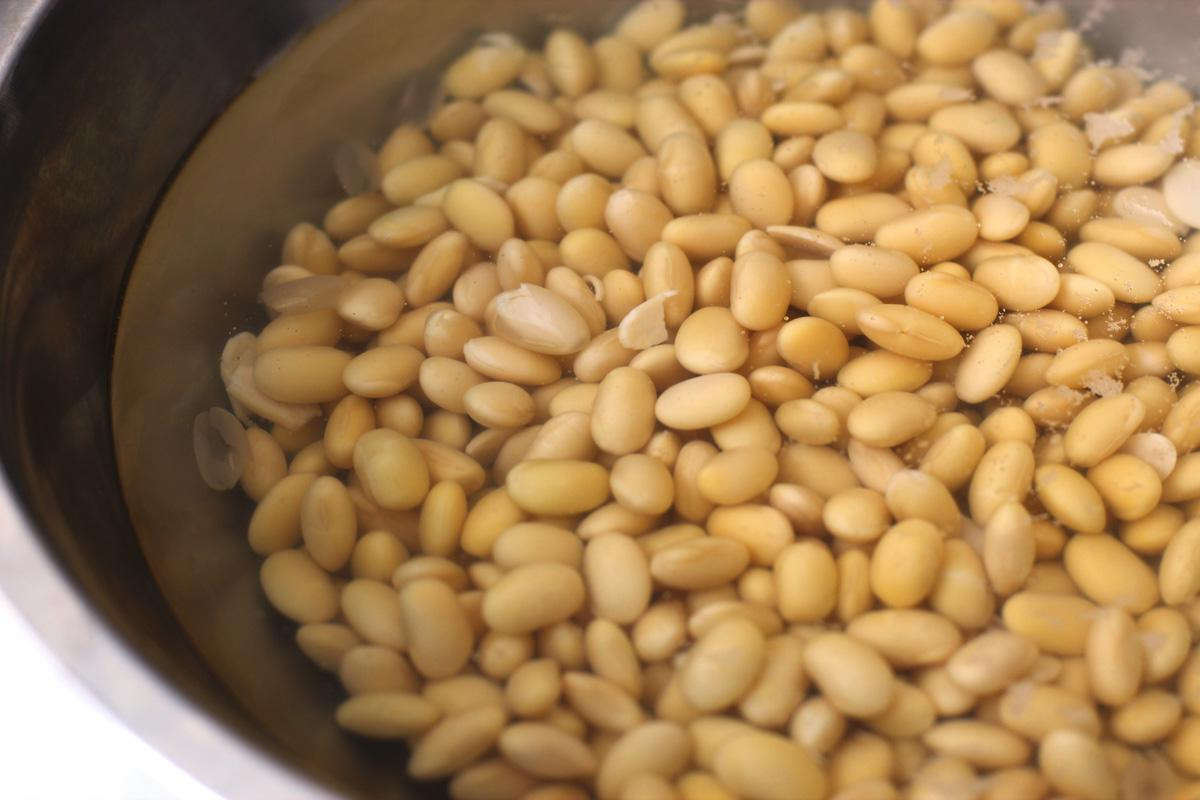peas: (199, 0, 1198, 798)
